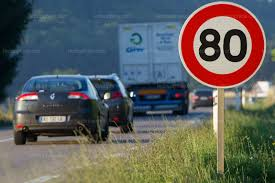Speed_limit_80km: (178, 3, 265, 87)
